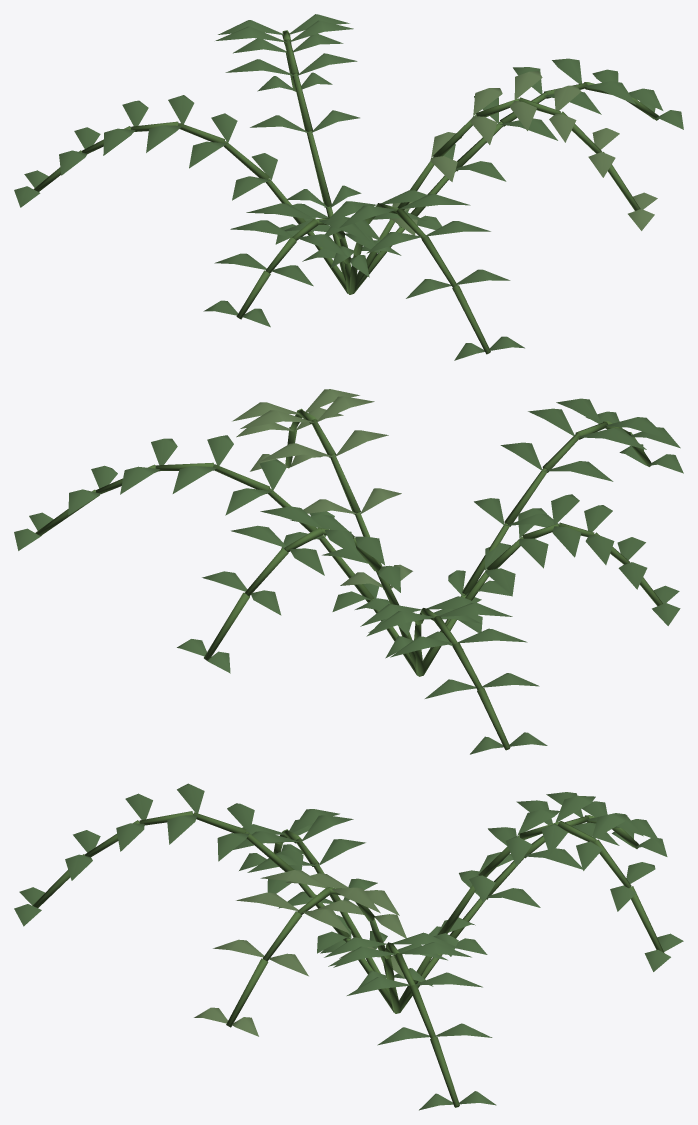
File: woodland_fern.glb
3 renders of one model, top to bottom at view 1: azimuth 30°, elevation 25°; view 2: azimuth 150°, elevation 25°; view 3: azimuth 270°, elevation 25°, orthographic. The views are drawn at different scales.
Visible parts, largest first — view 1: woodland_fern_painted_export; view 2: woodland_fern_painted_export; view 3: woodland_fern_painted_export.
Boxes of the visible parts, x1,y1,x2,y2 form: woodland_fern_painted_export: (14,14,683,360); woodland_fern_painted_export: (14,389,683,754); woodland_fern_painted_export: (14,783,683,1110).
Bounding box in the file's own units: 1.79 × 0.6083 × 1.75.
